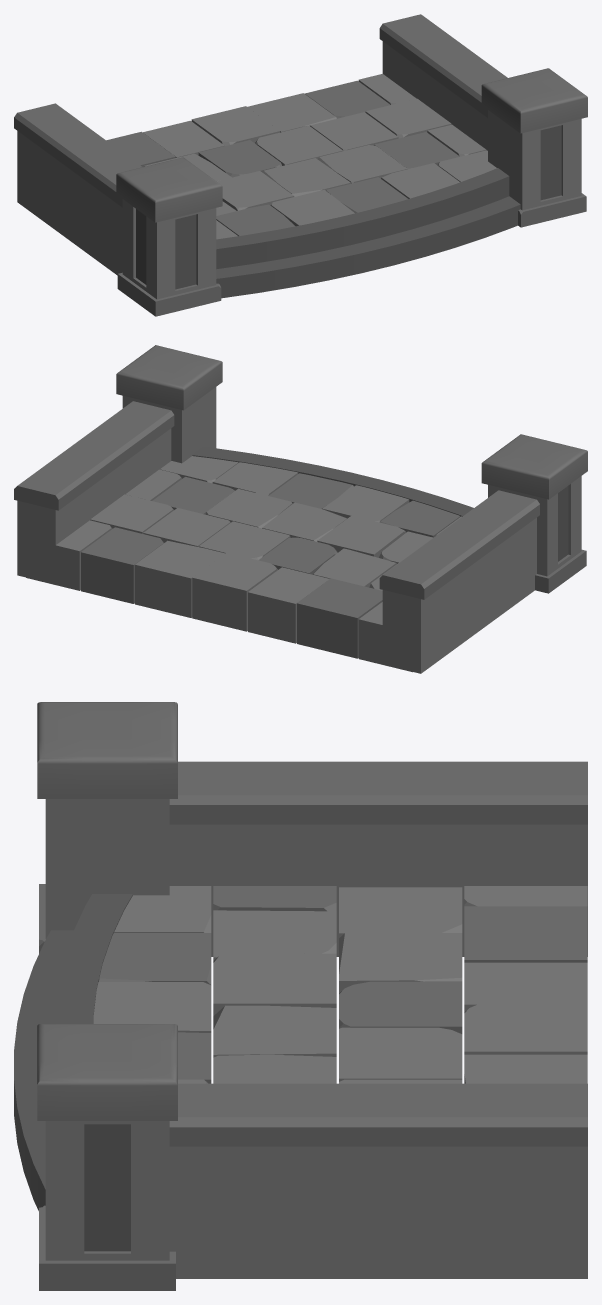
Rendered from CastlePart_03.glb.
3 views of the same model, one above another, from view 1: azimuth 30°, elevation 25°; view 2: azimuth 150°, elevation 25°; view 3: azimuth 270°, elevation 25° (orthographic). The views are drawn at different scales.
Parts seen in each view (by area): view 1: CastlePart_03_LOD0; view 2: CastlePart_03_LOD0; view 3: CastlePart_03_LOD0.
Boxes of the visible parts, bbox=[...] form: CastlePart_03_LOD0: bbox=[14, 14, 587, 316]; CastlePart_03_LOD0: bbox=[14, 345, 587, 673]; CastlePart_03_LOD0: bbox=[14, 702, 587, 1290].
Size of what is drawn, in the model's own units: 4.87 by 1.26 by 3.1.
Materials: 1 (1 with a texture image).
